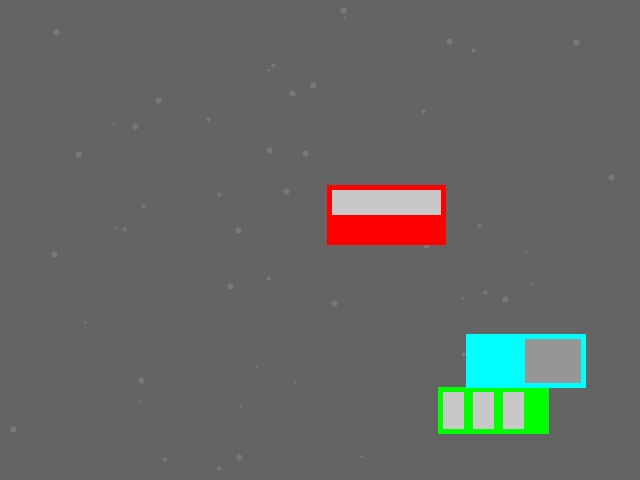bus: (438, 387, 548, 433)
car: (327, 185, 445, 244)
truck: (466, 334, 585, 387)
